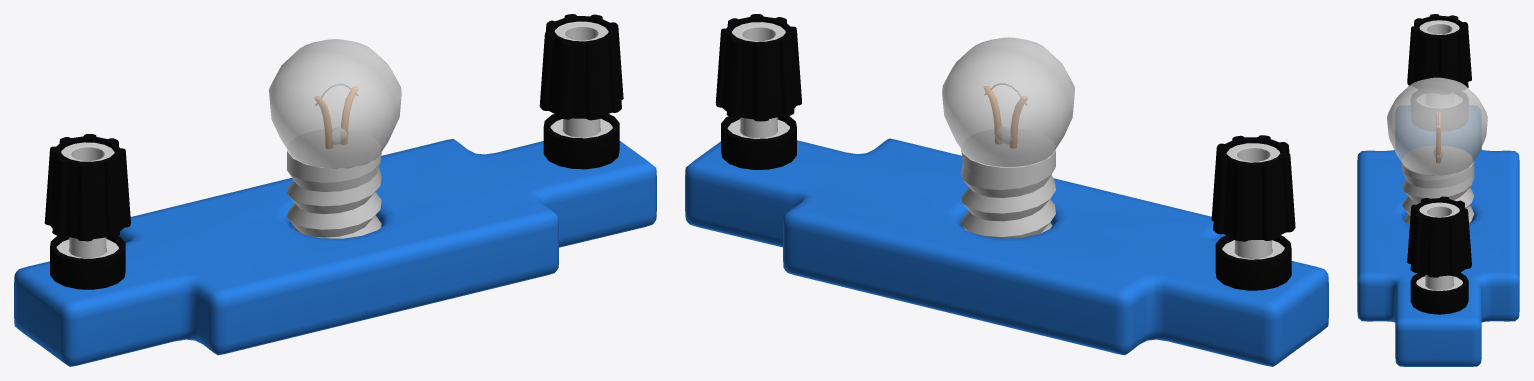
Rendered from Bulb_sm.fbx.
The picture shows the model from 3 angles, left to right: view 1: azimuth 30°, elevation 25°; view 2: azimuth 150°, elevation 25°; view 3: azimuth 270°, elevation 25°; orthographic projection. The views are drawn at different scales.
Visible parts, largest first — view 1: Resistor.001, Cylinder.042, Sphere, Bolt.002, Cylinder.036, Cylinder.046; view 2: Resistor.001, Cylinder.042, Sphere, Bolt.002, Cylinder.036, Cylinder.046; view 3: Resistor.001, Cylinder.042, Sphere, Bolt.002, Cylinder.036, Cylinder.046.
Boxes of the visible parts, left/top/right/bottom form: Resistor.001: left=14, top=139, right=656, bottom=366; Cylinder.042: left=44, top=14, right=623, bottom=257; Sphere: left=269, top=39, right=401, bottom=168; Bolt.002: left=287, top=129, right=381, bottom=238; Cylinder.036: left=50, top=114, right=619, bottom=289; Cylinder.046: left=314, top=86, right=358, bottom=148; Resistor.001: left=685, top=138, right=1328, bottom=366; Cylinder.042: left=715, top=14, right=1295, bottom=258; Sphere: left=942, top=37, right=1074, bottom=166; Bolt.002: left=961, top=128, right=1055, bottom=238; Cylinder.036: left=721, top=116, right=1291, bottom=290; Cylinder.046: left=984, top=86, right=1028, bottom=148; Resistor.001: left=1357, top=147, right=1519, bottom=366; Cylinder.042: left=1407, top=14, right=1471, bottom=290; Sphere: left=1387, top=77, right=1487, bottom=175; Bolt.002: left=1402, top=146, right=1474, bottom=224; Cylinder.036: left=1410, top=273, right=1468, bottom=314; Cylinder.046: left=1436, top=112, right=1440, bottom=162.
Bounding box in the file's own units: 236 × 88.86 × 73.78.
